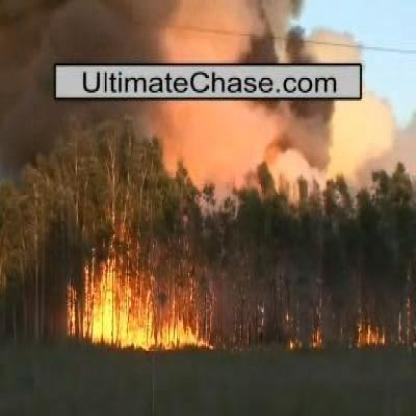-: (26, 0, 303, 57), (168, 102, 350, 162)
foggia-v2-map80-epoch100 - v1 4323: (91, 280, 146, 350)
